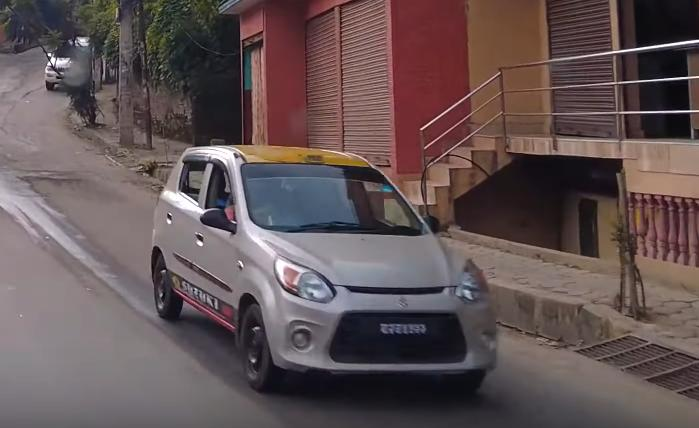taxi: (134, 137, 511, 404)
